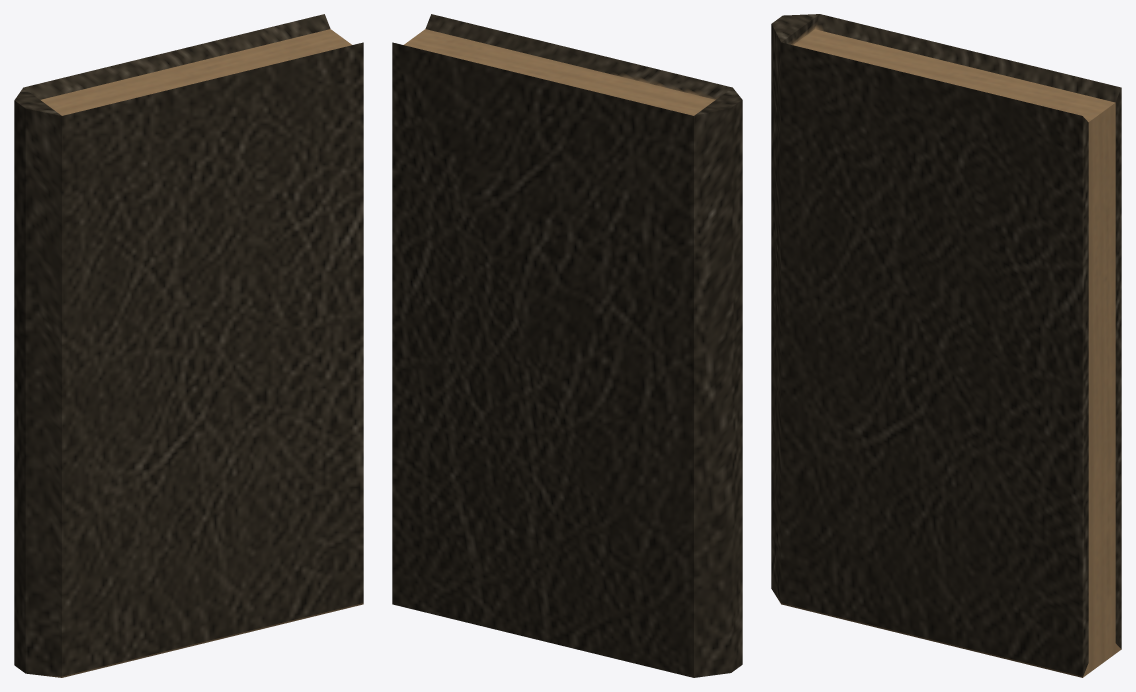
The model's file is Book generic.fbx.
3 views of the same model, side by side, from view 1: azimuth 30°, elevation 25°; view 2: azimuth 150°, elevation 25°; view 3: azimuth 330°, elevation 25° (orthographic).
Parts seen in each view (by area): view 1: Cube; view 2: Cube; view 3: Cube.
Part boxes in pixels (x1,y1,x2,y2): Cube: (14,14,363,677); Cube: (392,14,742,677); Cube: (771,14,1121,677).
Bounding box in the file's own units: 121 × 201 × 25.05.
